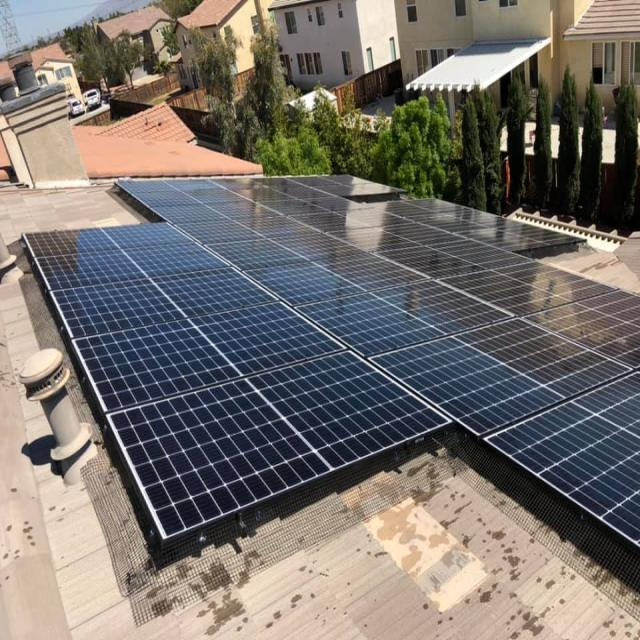clean-solar-panel: (25, 177, 640, 548)
